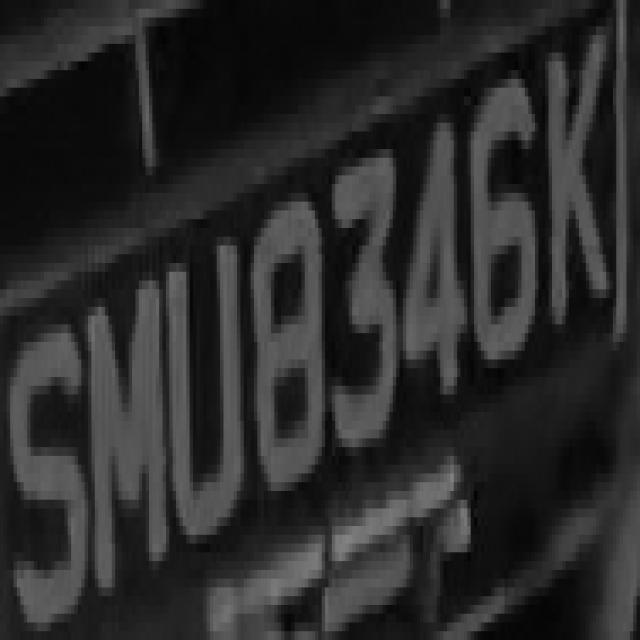3: (322, 132, 399, 482)
4: (386, 79, 464, 421)
6: (464, 96, 545, 377)
8: (244, 176, 335, 508)
K: (542, 9, 616, 386)
M: (84, 236, 180, 614)
S: (0, 307, 85, 631)
U: (163, 220, 247, 552)
